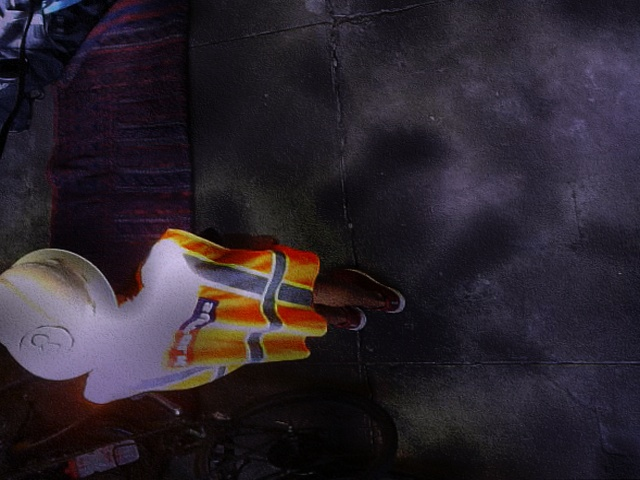eight: (20, 324, 74, 361)
